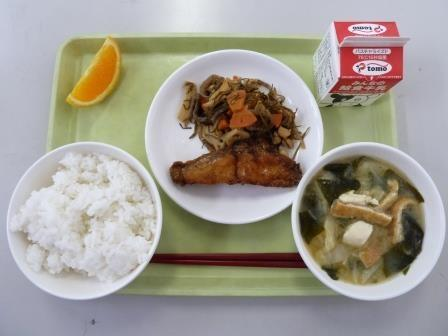Citrus: (55, 36, 137, 115)
Fish: (167, 149, 306, 200)
Milk: (312, 13, 409, 106)
Rice: (12, 141, 155, 293)
Soups: (295, 140, 441, 298)
salad with sauce: (178, 68, 301, 153)
